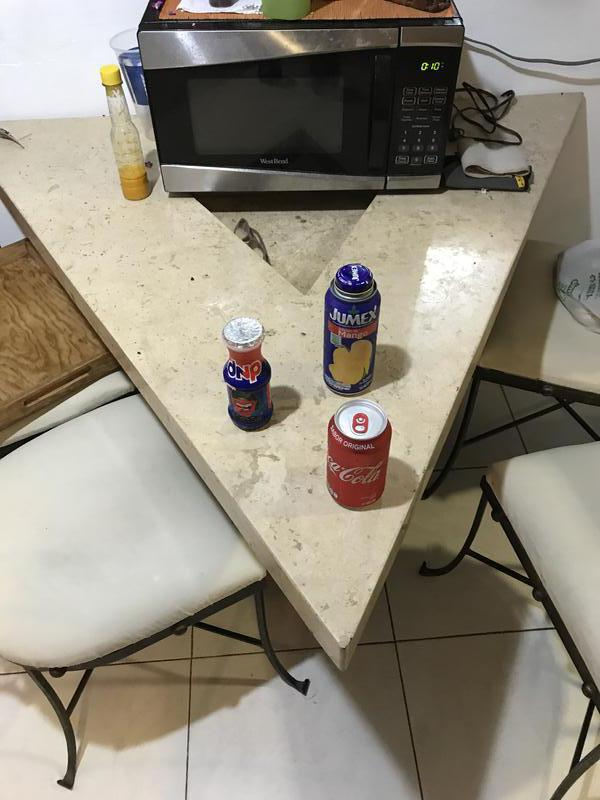coca_cola: (327, 399, 391, 512)
danup: (221, 315, 279, 432)
jugo_jumex: (325, 265, 380, 394)
